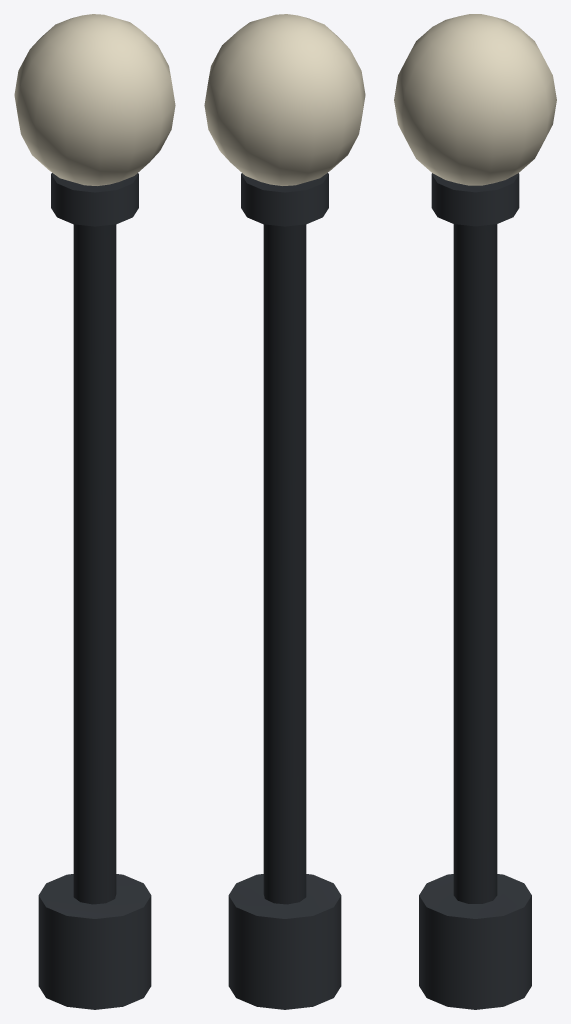
File: lamp.glb
The picture shows the model from 3 angles, left to right: view 1: azimuth 30°, elevation 25°; view 2: azimuth 150°, elevation 25°; view 3: azimuth 270°, elevation 25°; orthographic projection.
Parts seen in each view (by area): view 1: lamp; view 2: lamp; view 3: lamp.
Part boxes in pixels (x1=…): lamp: x1=14, y1=14, x2=175, y2=1009; lamp: x1=204, y1=14, x2=365, y2=1009; lamp: x1=394, y1=14, x2=556, y2=1009.
Size of the model in its own units: 0.2535 by 1.7 by 0.26.
